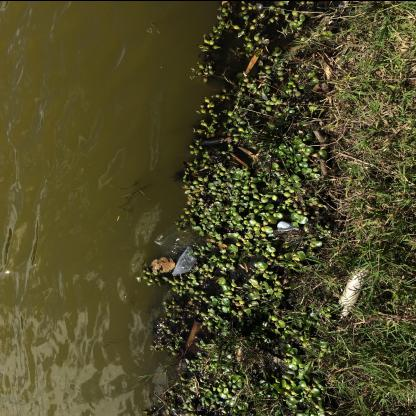diger: (338, 268, 370, 306)
plastik: (172, 244, 196, 274)
